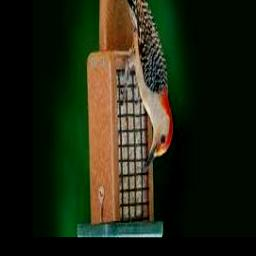Woodpecker: (111, 0, 173, 173)
